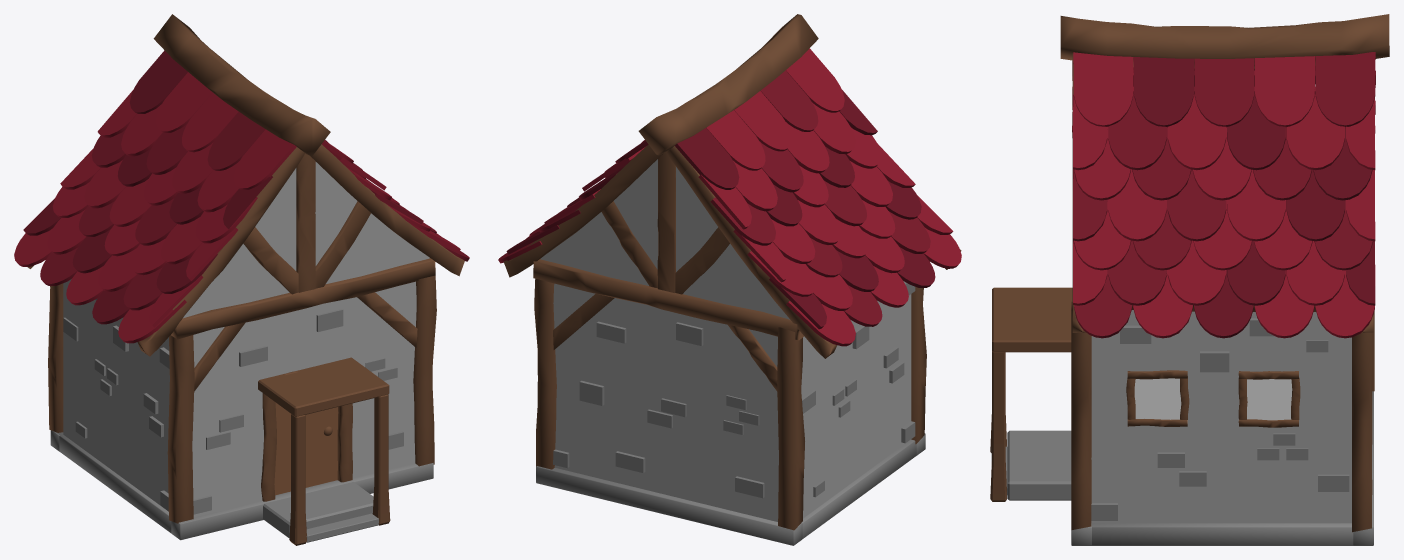
Rendered from AristocracyHouse.fbx.
The picture shows the model from 3 angles, left to right: view 1: azimuth 30°, elevation 25°; view 2: azimuth 150°, elevation 25°; view 3: azimuth 270°, elevation 25°; orthographic projection. The views are drawn at different scales.
Parts seen in each view (by area): view 1: Wall_front, Wall_left, Plane.007, Plane.008, Plane.012, HousePillar2.013, Plane.013, HousePillar5, Plane.011, Cube.048, HousePillar, Plane.009 (+19 smaller); view 2: Wall_back, Wall_left, Plane.007, Plane.008, Plane.012, HousePillar2.013, Plane.013, Cube.043, HousePillar5.001, Plane.011, HousePillar.001, Plane.009 (+11 smaller); view 3: Wall_right, Plane, Plane.001, Plane.003, HousePillar2.013, Plane.005, Plane.006, Plane.002, Plane.004, Cube.044, Cube.048, Cube.049 (+12 smaller).
Boxes of the visible parts, x1,y1,x2,y2 form: Wall_front: [183, 162, 429, 517]; Wall_left: [63, 279, 169, 511]; Plane.007: [129, 50, 296, 189]; Plane.008: [97, 90, 272, 229]; Plane.012: [60, 148, 237, 280]; HousePillar2.013: [153, 14, 330, 156]; Plane.013: [23, 198, 203, 327]; HousePillar5: [171, 258, 435, 339]; Plane.011: [14, 228, 186, 343]; Cube.048: [258, 357, 389, 416]; HousePillar: [167, 335, 194, 523]; Plane.009: [91, 129, 257, 243]; Wall_back: [540, 159, 789, 521]; Wall_left: [801, 294, 911, 518]; Plane.007: [675, 48, 844, 189]; Plane.008: [698, 90, 877, 229]; Plane.012: [733, 143, 915, 282]; HousePillar2.013: [638, 14, 818, 155]; Plane.013: [769, 195, 953, 329]; Cube.043: [536, 466, 802, 545]; HousePillar5.001: [533, 259, 803, 340]; Plane.011: [786, 228, 961, 346]; HousePillar.001: [777, 327, 804, 530]; Plane.009: [710, 127, 881, 245]; Wall_right: [1091, 310, 1351, 523]; Plane: [1073, 52, 1375, 127]; Plane.001: [1073, 94, 1375, 170]; Plane.003: [1073, 169, 1375, 241]; HousePillar2.013: [1060, 14, 1389, 68]; Plane.005: [1073, 240, 1375, 305]; Plane.006: [1074, 265, 1375, 338]; Plane.002: [1074, 127, 1372, 200]; Plane.004: [1073, 199, 1373, 270]; Cube.044: [1091, 523, 1353, 545]; Cube.048: [992, 287, 1072, 352]; Cube.049: [1007, 430, 1071, 500].
Bounding box in the file's own units: 364 × 399 × 312.
